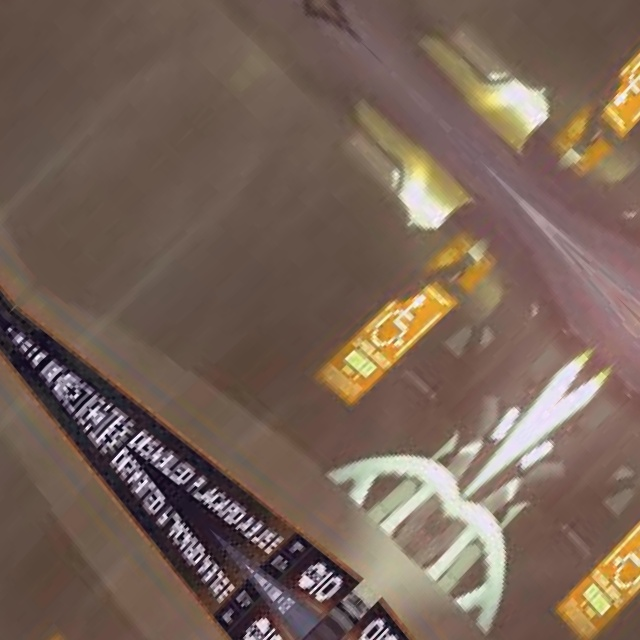ISA: (365, 284, 439, 358), (603, 521, 640, 594), (604, 45, 640, 118)
